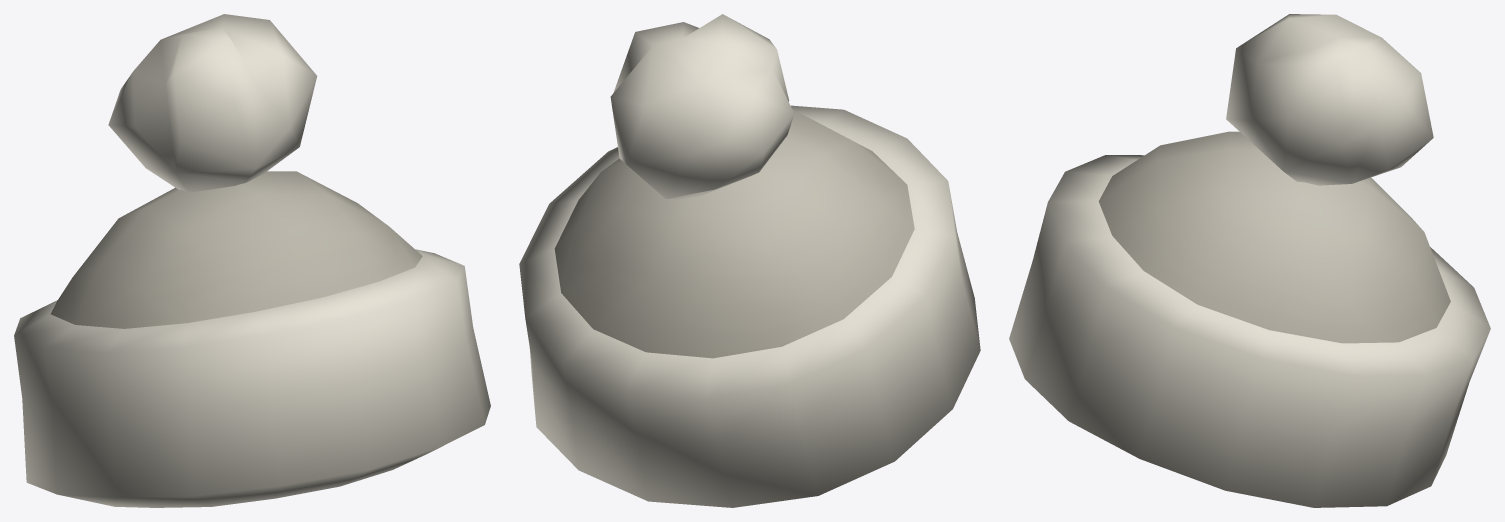
File: Headgear_7.fbx
3 views of the same model, side by side, from view 1: azimuth 30°, elevation 25°; view 2: azimuth 150°, elevation 25°; view 3: azimuth 270°, elevation 25° (orthographic). The views are drawn at different scales.
Visible parts, largest first — view 1: Headgear_7; view 2: Headgear_7; view 3: Headgear_7.
Part boxes in pixels (x1,y1,x2,y2): Headgear_7: (14,14,490,507); Headgear_7: (519,14,980,507); Headgear_7: (1009,14,1490,507).
Size of the model in its own units: 84.71 by 89.92 by 88.56.
